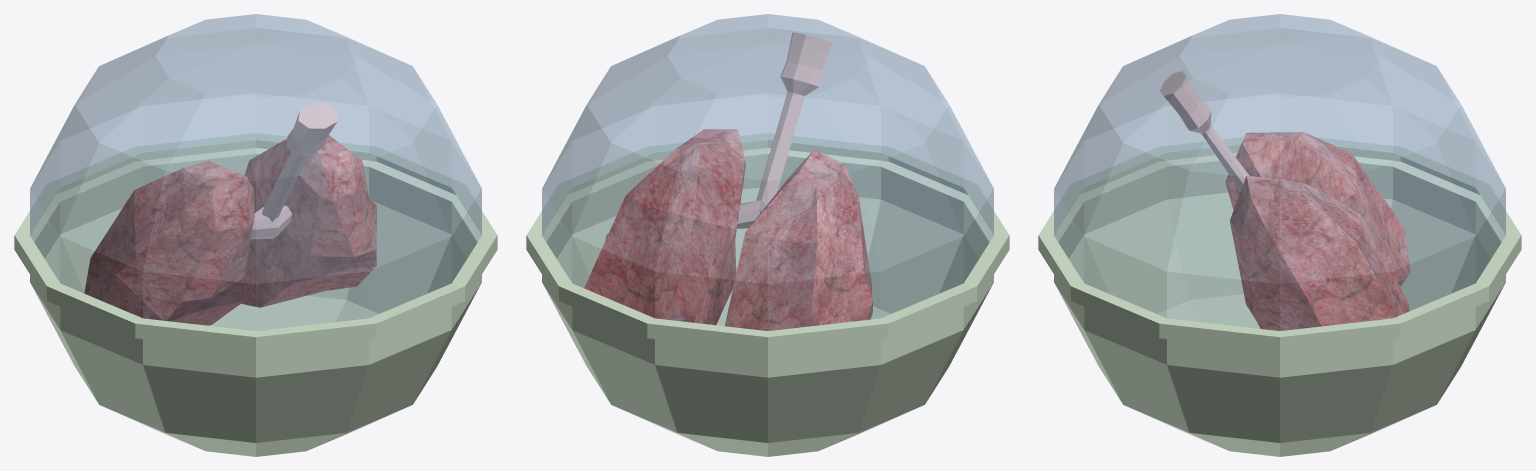
The model's file is lungsGacha.fbx.
The picture shows the model from 3 angles, left to right: view 1: azimuth 30°, elevation 25°; view 2: azimuth 150°, elevation 25°; view 3: azimuth 270°, elevation 25°; orthographic projection.
Visible parts, largest first — view 1: Top, Sphere, lungs; view 2: Top, Sphere, lungs; view 3: Top, Sphere, lungs.
Part boxes in pixels (bbox=[...]): Top: bbox=[30, 14, 481, 330]; Sphere: bbox=[14, 133, 497, 456]; lungs: bbox=[84, 103, 376, 325]; Top: bbox=[542, 14, 993, 330]; Sphere: bbox=[526, 133, 1009, 456]; lungs: bbox=[584, 32, 872, 330]; Top: bbox=[1054, 14, 1505, 330]; Sphere: bbox=[1038, 137, 1521, 456]; lungs: bbox=[1160, 71, 1410, 330].
Size of the model in its own units: 295 by 257 by 295.
